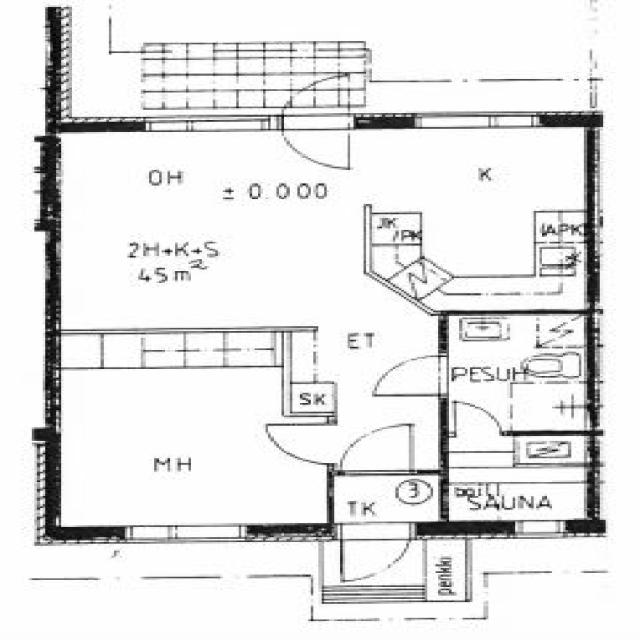door: (278, 116, 357, 170), (337, 424, 415, 475), (346, 526, 416, 578), (369, 352, 447, 398), (442, 398, 507, 441)
window: (408, 110, 548, 133), (122, 521, 252, 545), (138, 116, 272, 136), (508, 520, 574, 540)
zone: (445, 315, 591, 436), (440, 444, 593, 526), (328, 473, 441, 524), (510, 432, 592, 467), (368, 210, 422, 246)
